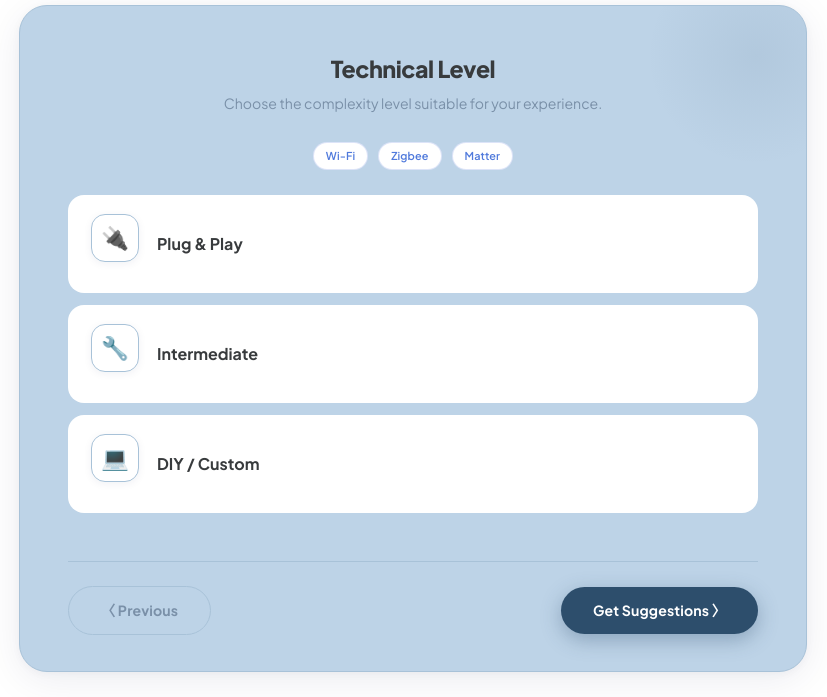
Test case: SetupWizard › SuggestedProductsView › handles fetch error for algorithm products
This screenshot has width=827, height=697.
(page scrolled)
Click the button "Get Suggestions 〉" at (659, 610), box left=561, top=587, right=758, bottom=634
(page scrolled)
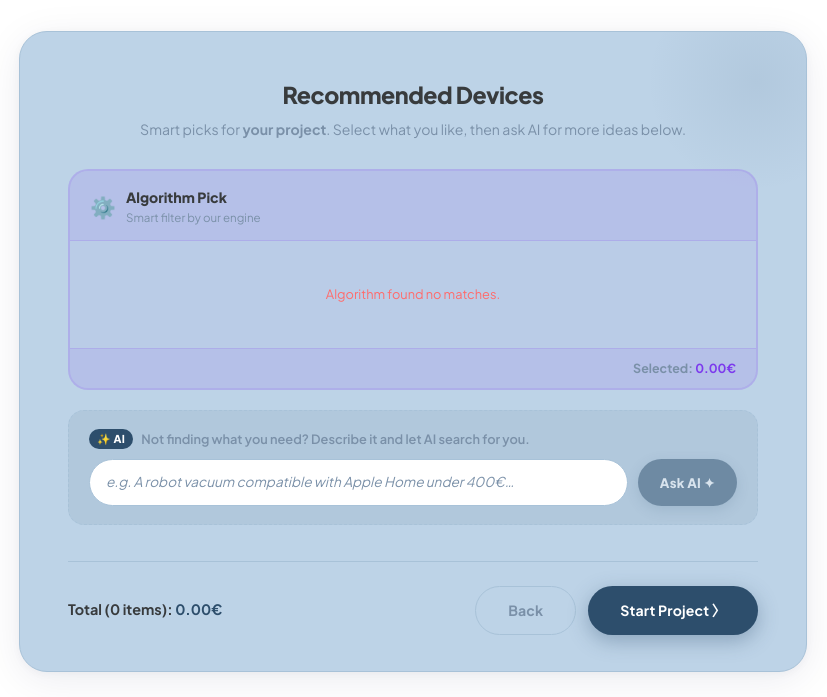
expect the text "Algorithm found no matches." is shown: met, box left=326, top=286, right=500, bottom=302
